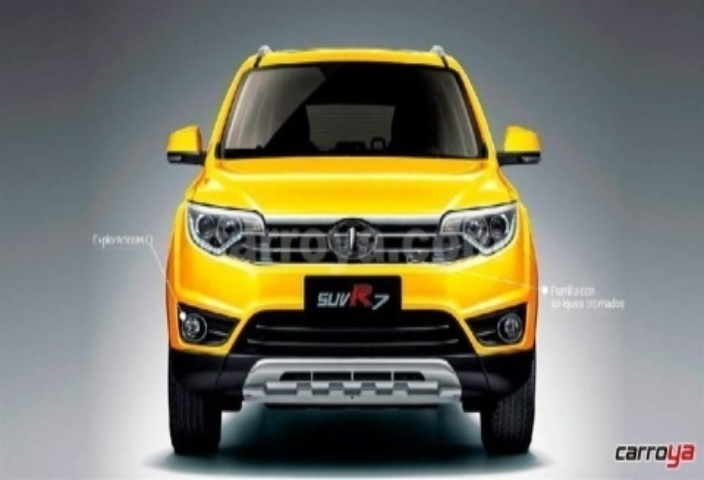taxi: (149, 28, 556, 453)
